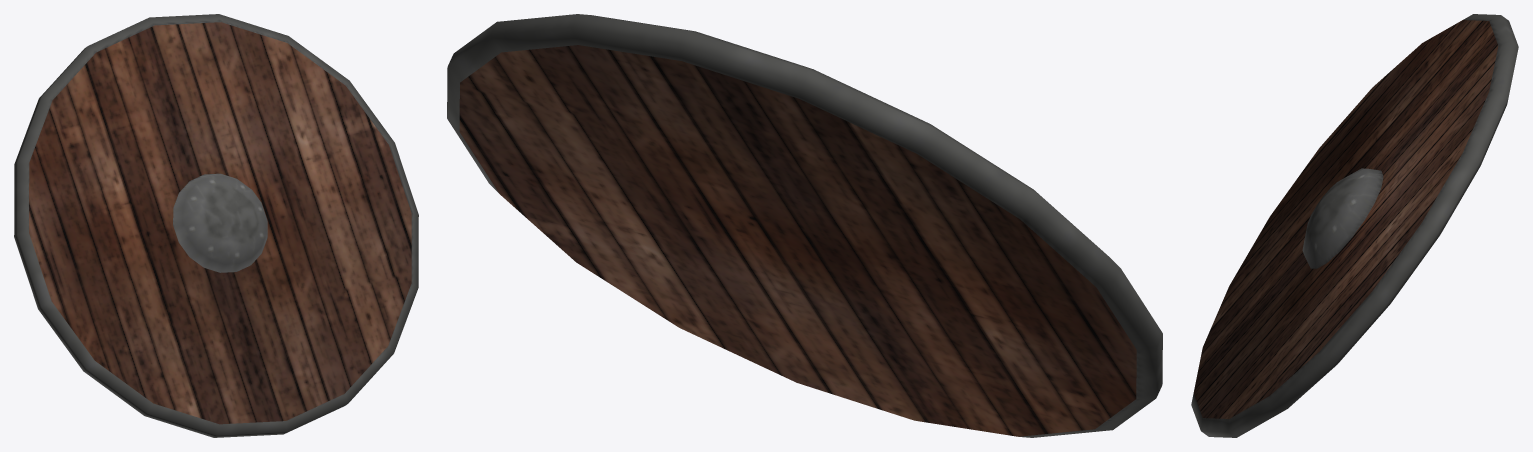
The model's file is Wooden Shield.fbx.
3 renders of one model, left to right at view 1: azimuth 30°, elevation 25°; view 2: azimuth 150°, elevation 25°; view 3: azimuth 270°, elevation 25°, orthographic. The views are drawn at different scales.
Parts seen in each view (by area): view 1: Cylinder_002; view 2: Cylinder_002; view 3: Cylinder_002.
Boxes of the visible parts, x1,y1,x2,y2 form: Cylinder_002: (14, 14, 418, 437); Cylinder_002: (447, 14, 1162, 437); Cylinder_002: (1191, 14, 1518, 437).
Bounding box in the file's own units: 26.18 × 21.13 × 16.97.
